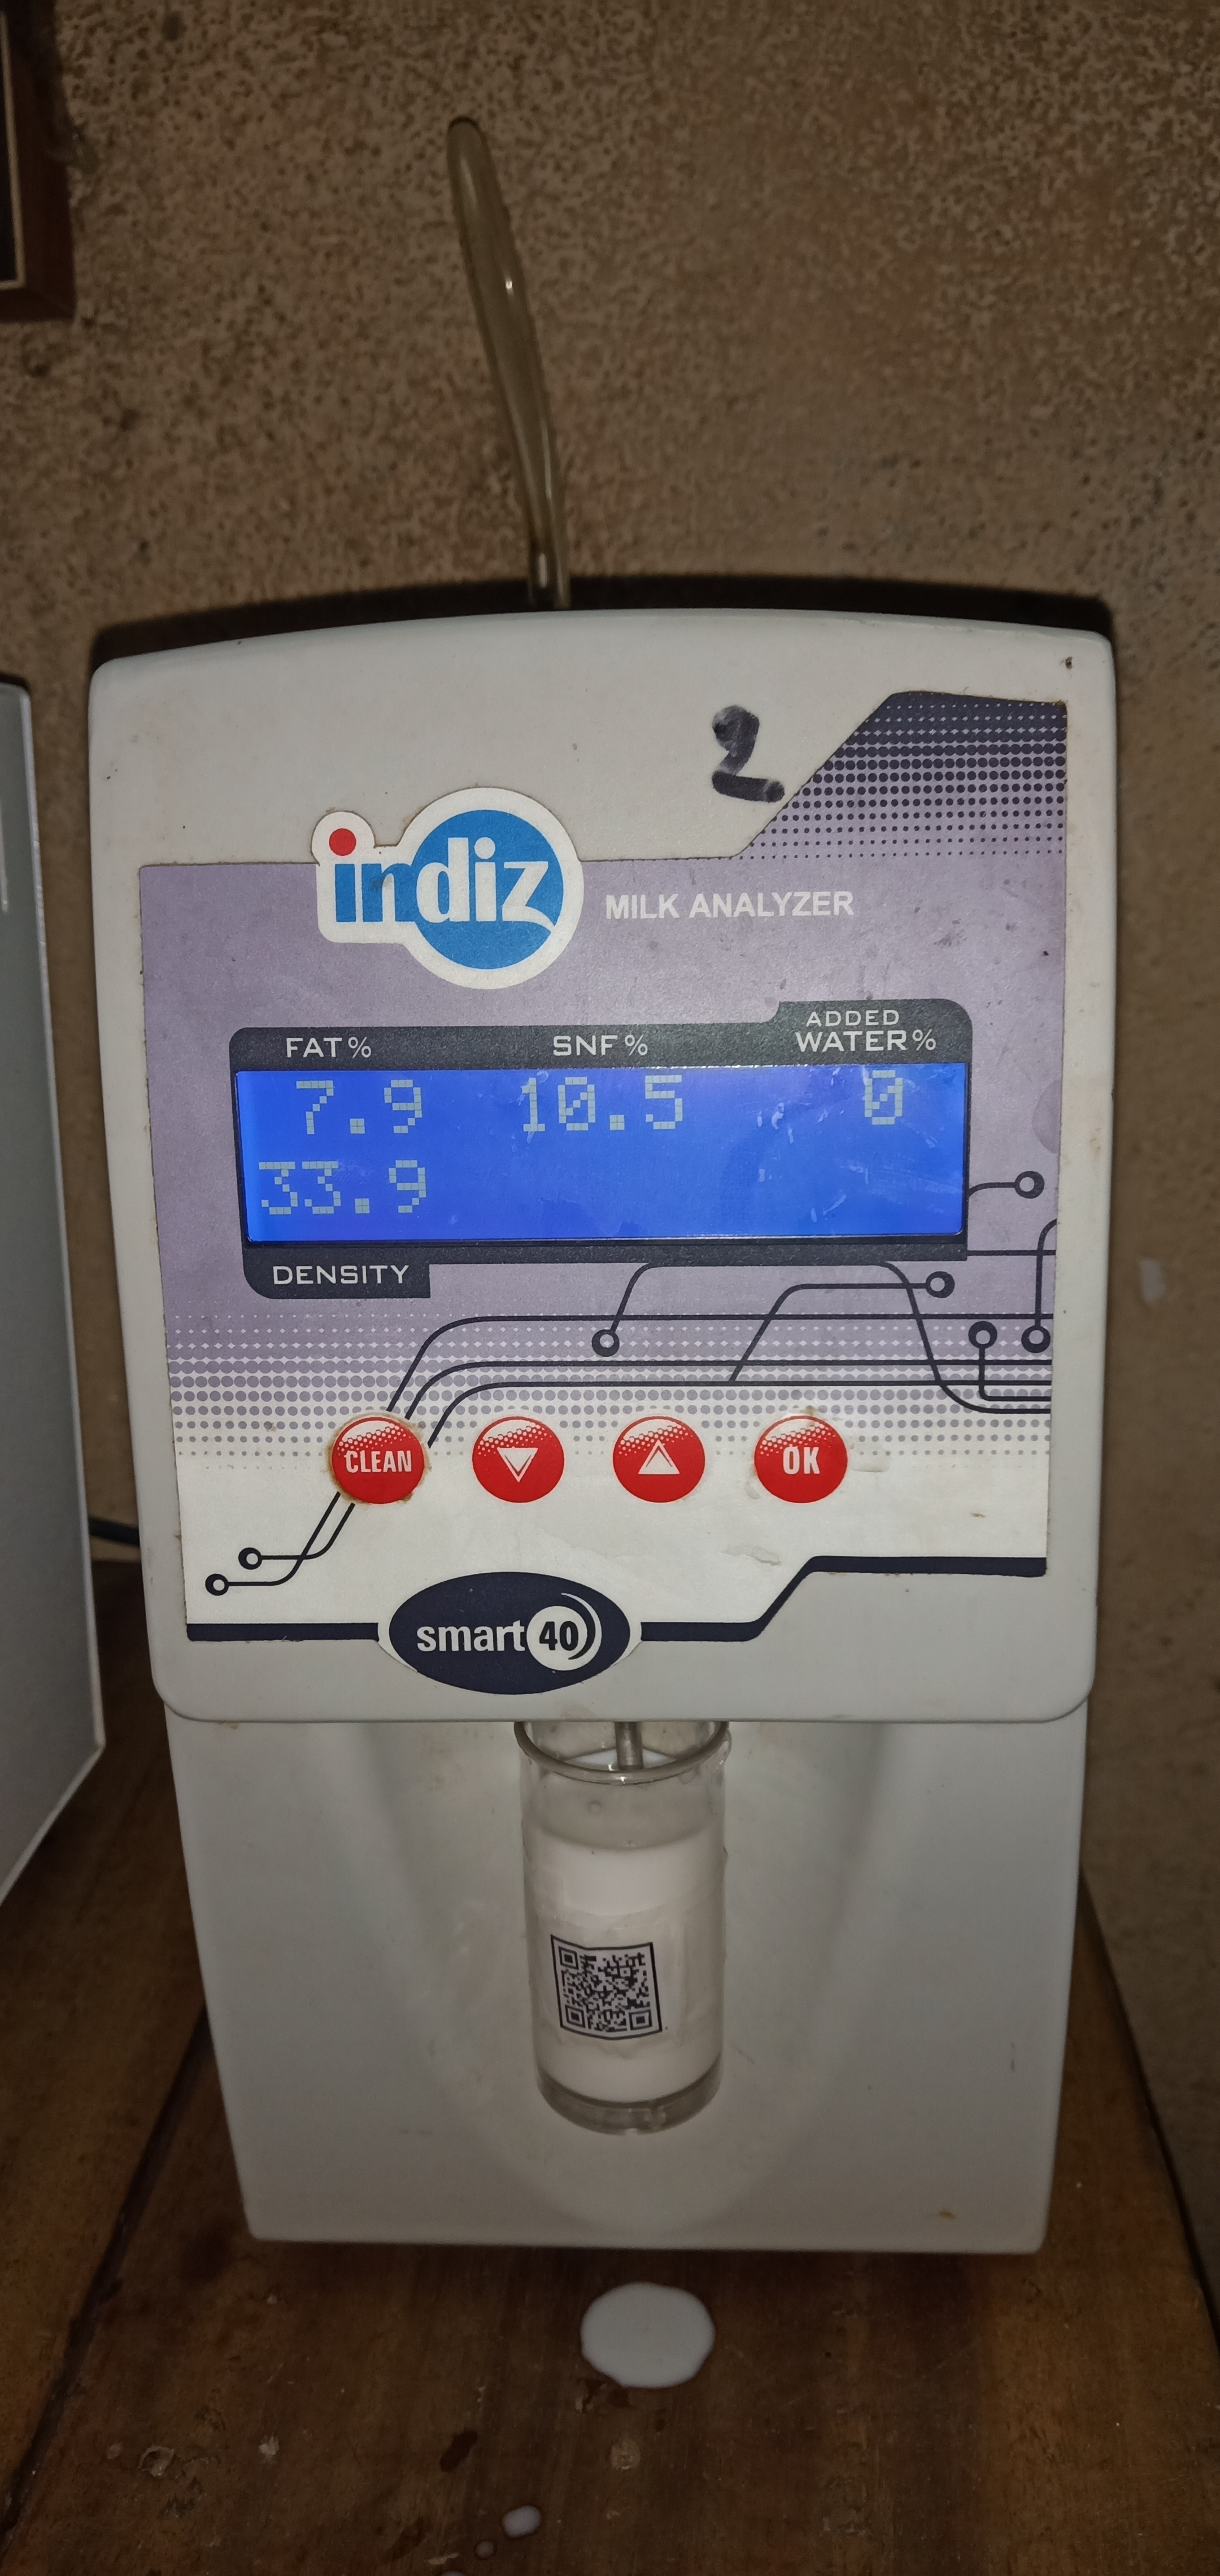lcd: (220, 994, 975, 1344)
qr: (547, 1925, 677, 2058)
